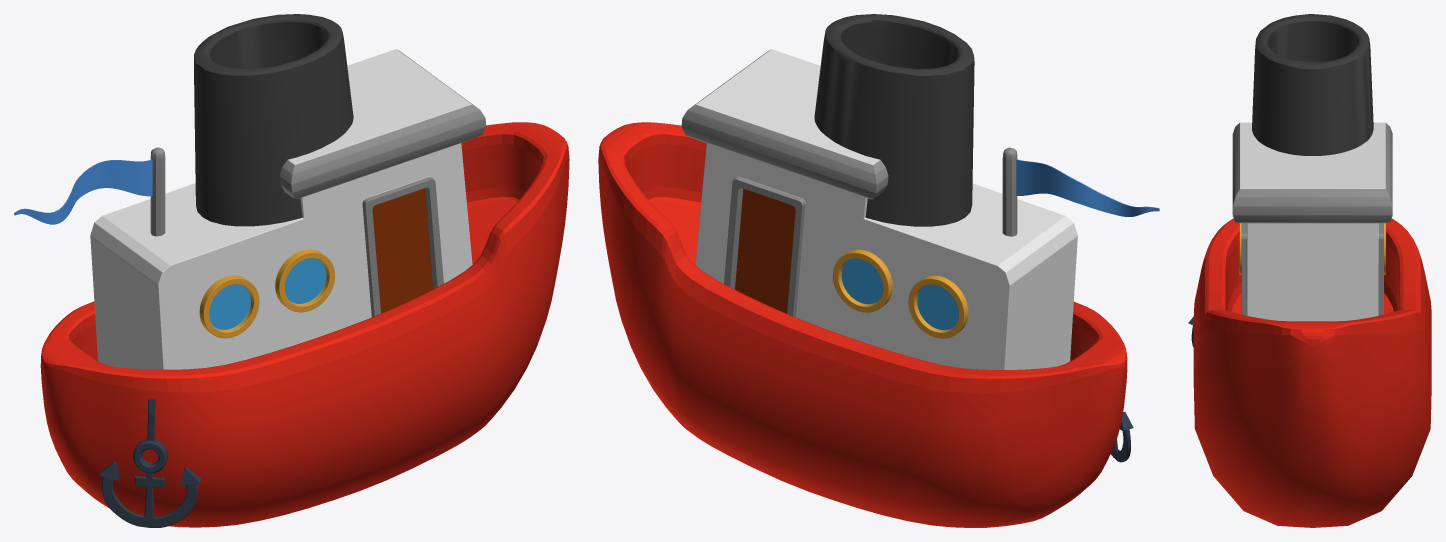
The model's file is ship.fbx.
3 views of the same model, side by side, from view 1: azimuth 30°, elevation 25°; view 2: azimuth 150°, elevation 25°; view 3: azimuth 270°, elevation 25° (orthographic). The views are drawn at different scales.
Parts seen in each view (by area): view 1: cabin; view 2: cabin; view 3: cabin.
Part boxes in pixels (left/top/right/bottom): cabin: left=14, top=14, right=569, bottom=527; cabin: left=598, top=14, right=1159, bottom=527; cabin: left=1188, top=14, right=1431, bottom=527.
Size of the model in its own units: 733 by 586 by 291.
